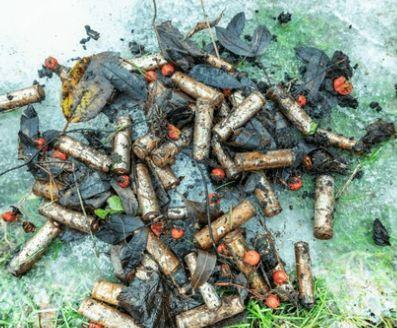battery: (8, 217, 63, 276), (195, 199, 258, 247), (212, 90, 269, 141), (269, 83, 316, 138), (135, 223, 179, 276), (76, 295, 145, 328), (174, 296, 245, 327), (42, 199, 102, 235), (58, 133, 112, 172), (168, 68, 223, 105), (292, 240, 319, 309), (131, 162, 162, 221), (90, 277, 148, 307), (314, 174, 338, 238), (0, 82, 48, 112), (237, 147, 299, 170), (111, 113, 132, 173), (194, 95, 211, 165)
